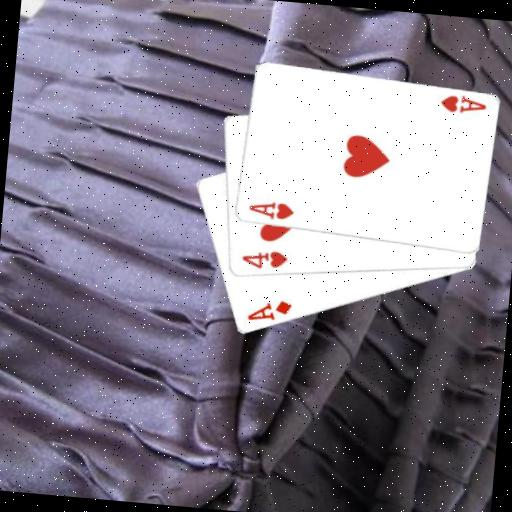4H: (238, 245, 290, 273)
AD: (243, 296, 294, 327)
AH: (437, 91, 489, 117), (245, 197, 296, 223)
